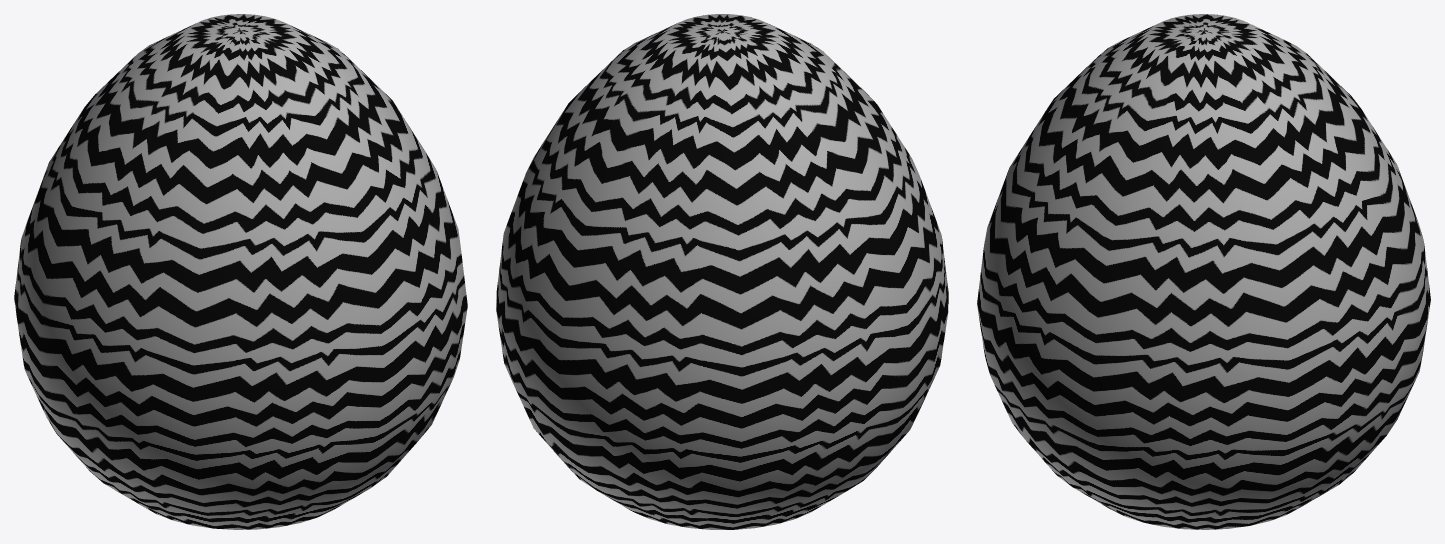
File: Jaggegg.gltf
3 views of the same model, side by side, from view 1: azimuth 30°, elevation 25°; view 2: azimuth 150°, elevation 25°; view 3: azimuth 270°, elevation 25° (orthographic).
Parts seen in each view (by area): view 1: EGG; view 2: EGG; view 3: EGG.
Boxes of the visible parts, x1,y1,x2,y2 form: EGG: [14, 14, 467, 529]; EGG: [496, 14, 948, 529]; EGG: [977, 14, 1430, 529].
Bounding box in the file's own units: 1.53 × 1.78 × 1.53.
1 material, 1 textured.
